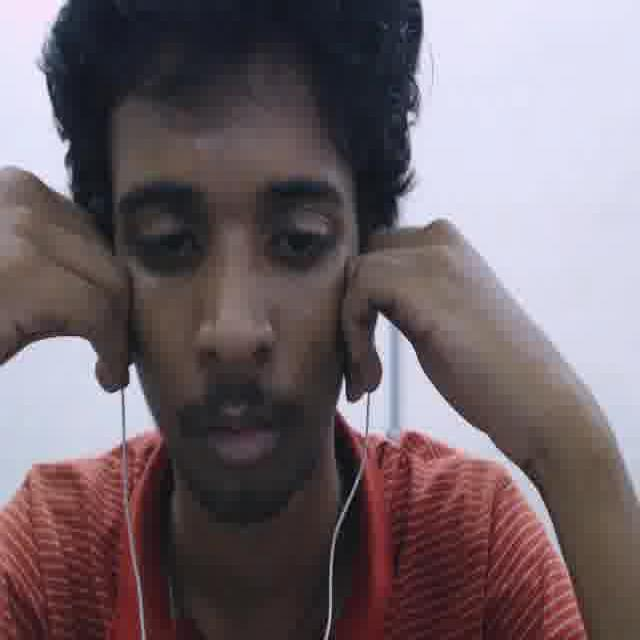Boredom: (106, 75, 355, 497)
